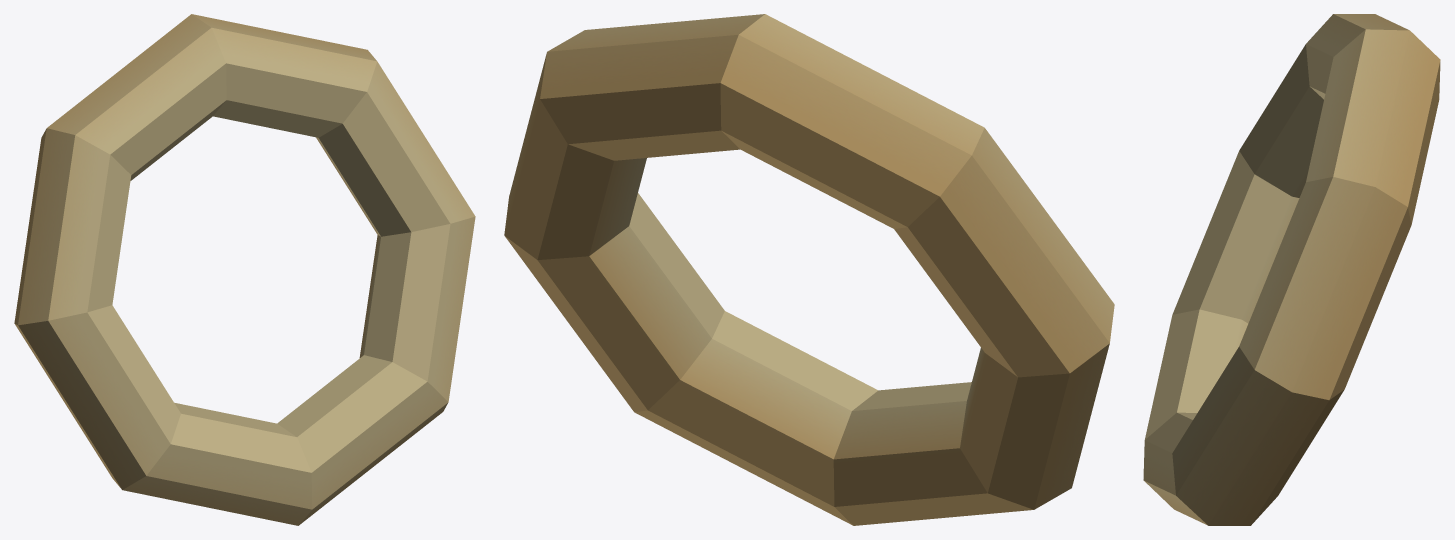
The model's file is face_nosering.fbx.
3 renders of one model, left to right at view 1: azimuth 30°, elevation 25°; view 2: azimuth 150°, elevation 25°; view 3: azimuth 270°, elevation 25°, orthographic. The views are drawn at different scales.
Visible parts, largest first — view 1: NoseRing_OBJ; view 2: NoseRing_OBJ; view 3: NoseRing_OBJ.
Part boxes in pixels (<box>): NoseRing_OBJ: <box>14,14,475,525</box>; NoseRing_OBJ: <box>504,14,1114,525</box>; NoseRing_OBJ: <box>1143,14,1440,525</box>.
Bounding box in the file's own units: 0.3589 × 0.3292 × 0.1841.
